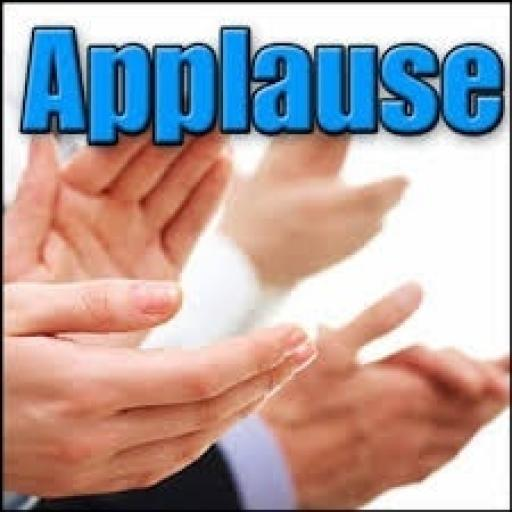clapping: (0, 118, 510, 510)
